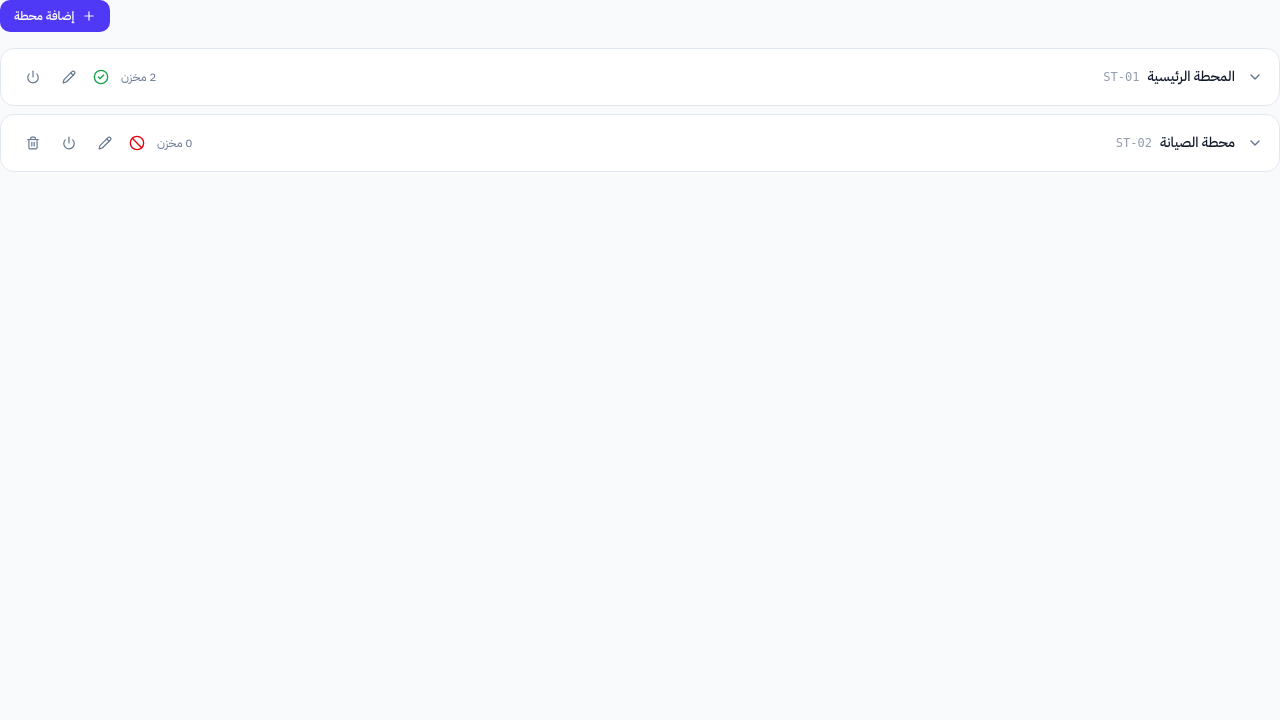
Test: StationsWarehouses — delete › dismisses the banner on request
The width and height of the screenshot is (1280, 720).
What coordinates should you click on to do the following:
click the button named "حذف محطة الصيانة"
I would click on:
 (33, 143)
Its box is [17,127,49,159].
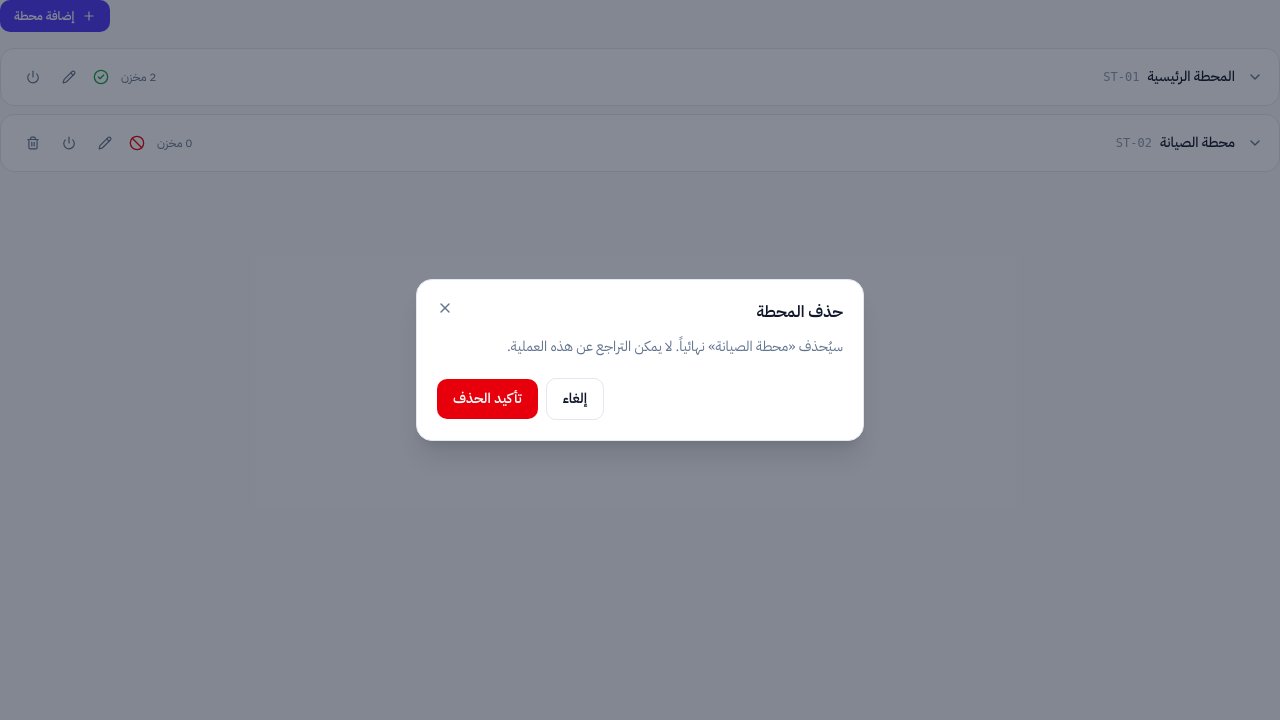
What coordinates should you click on to do the following:
click the button "تأكيد الحذف"
I would click on:
 (487, 399)
Its box is [437,379,538,419].
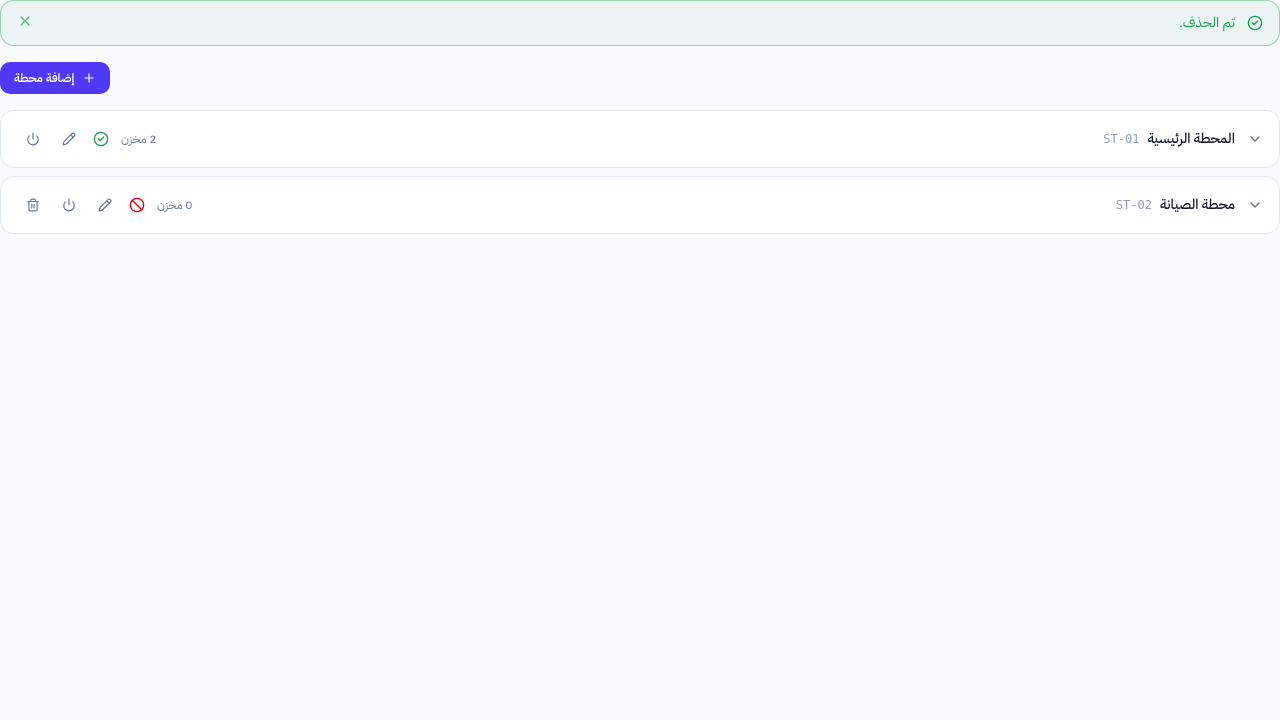
Now the message reads "تم الحذف.", box [1179,12,1235,33]
What coordinates should you click on to do the following:
click the button named "إغلاق التنبيه"
I would click on:
 (25, 21)
Its box is [17,13,33,29].
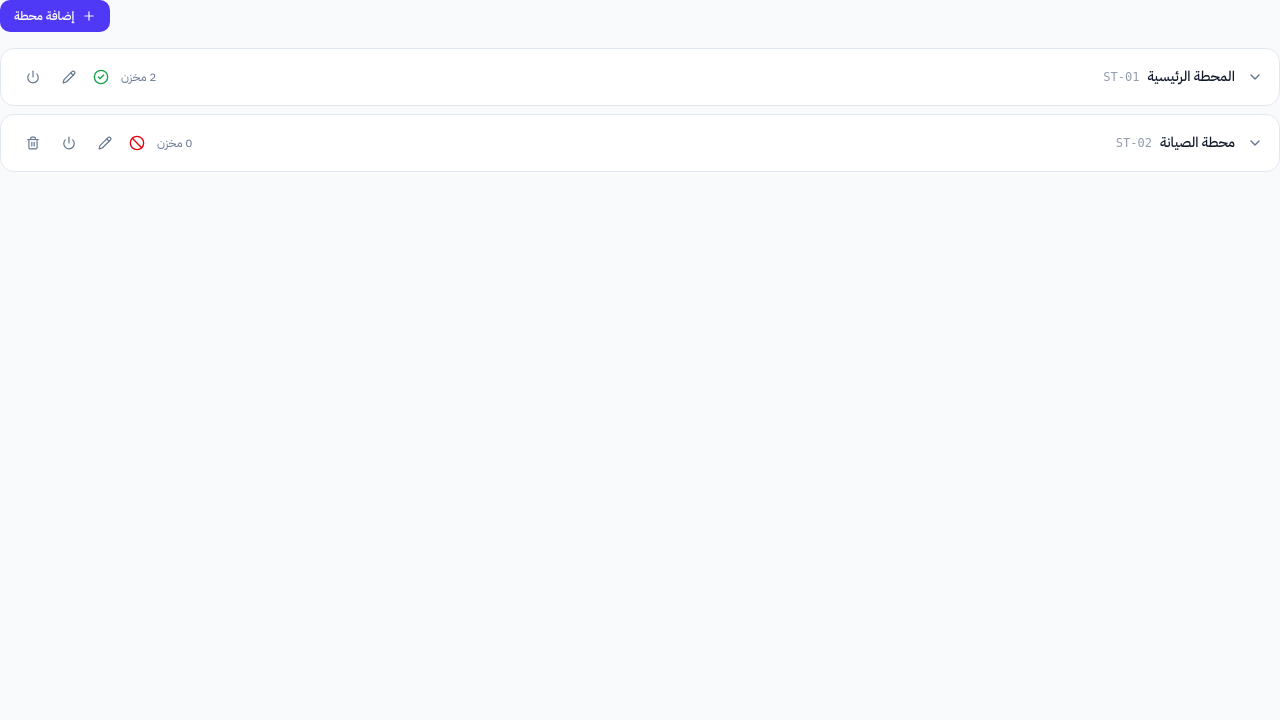
Now the message "تم الحذف." is gone
